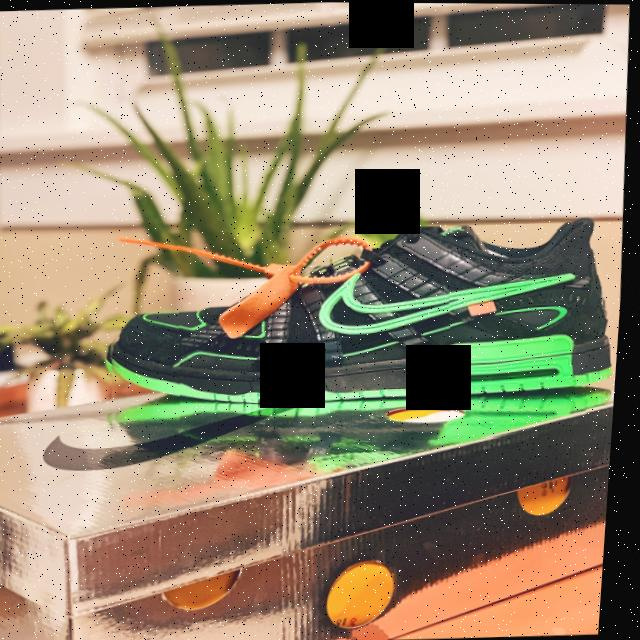shoe: (101, 217, 629, 454)
